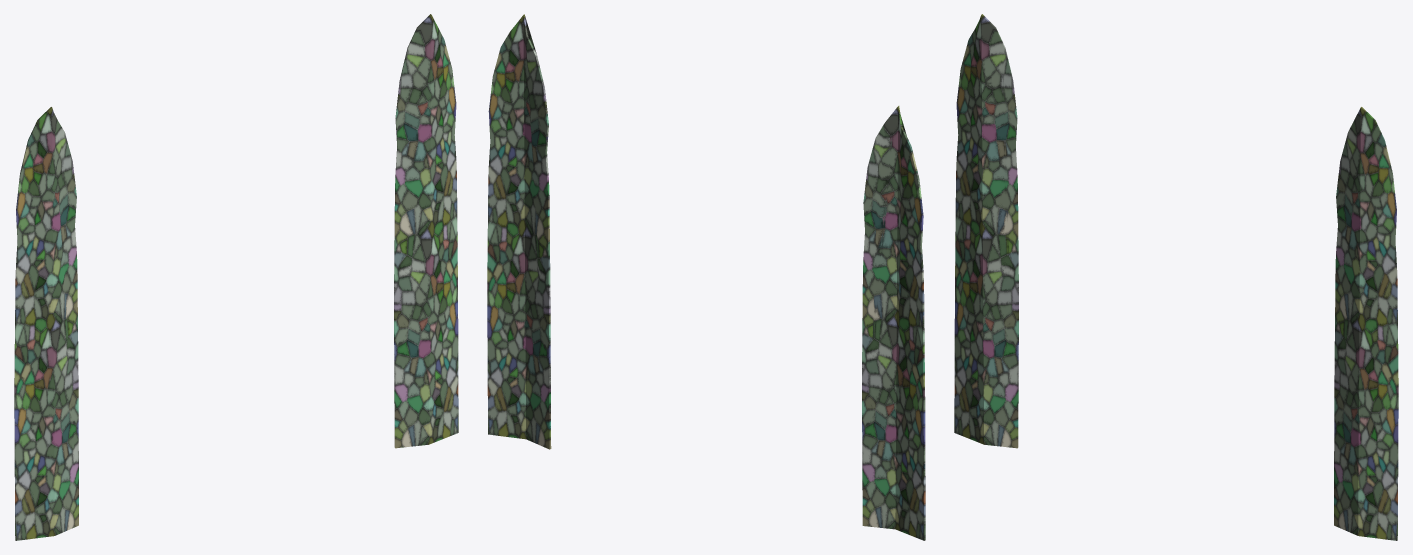
The model's file is vitral_candle.glb.
The picture shows the model from 3 angles, left to right: view 1: azimuth 30°, elevation 25°; view 2: azimuth 150°, elevation 25°; view 3: azimuth 330°, elevation 25°; orthographic projection.
Parts seen in each view (by area): view 1: BoolVitralChurh.001; view 2: BoolVitralChurh.001; view 3: BoolVitralChurh.001.
Boxes of the visible parts, x1,y1,x2,y2 form: BoolVitralChurh.001: (14,14,458,540); BoolVitralChurh.001: (487,14,925,540); BoolVitralChurh.001: (954,14,1398,540).
Bounding box in the file's own units: 21.47 × 19.88 × 0.5536.
Materials: 1 (1 with a texture image).
